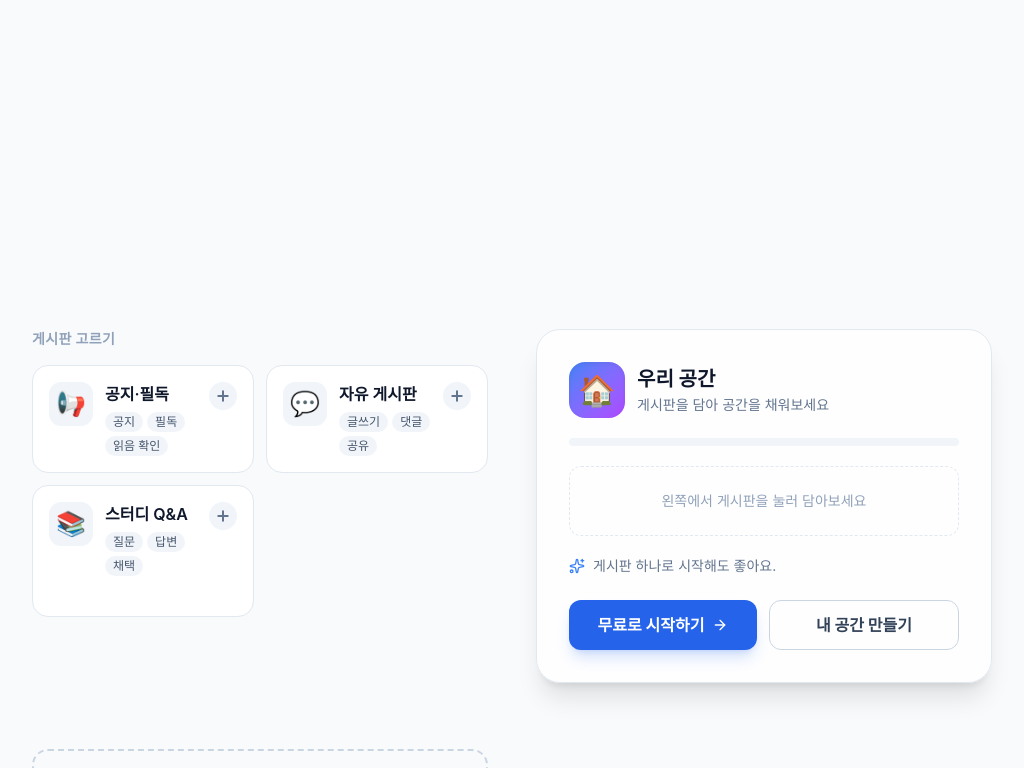
Scenario: Showcase — STORY-346-10 공간 완성 조립 › 타일을 담으면 공간 프레임이 채워지고 용도 수식어가 파생됨 (AC1·AC5)
The image size is (1024, 768).
Expected: the heading "우리 공간" is shown, [637,367,715,391]
Step 1. Click the button with aria-label "스터디 Q&A 게시판 담기" → x=143, y=551, box [32,485,254,617]
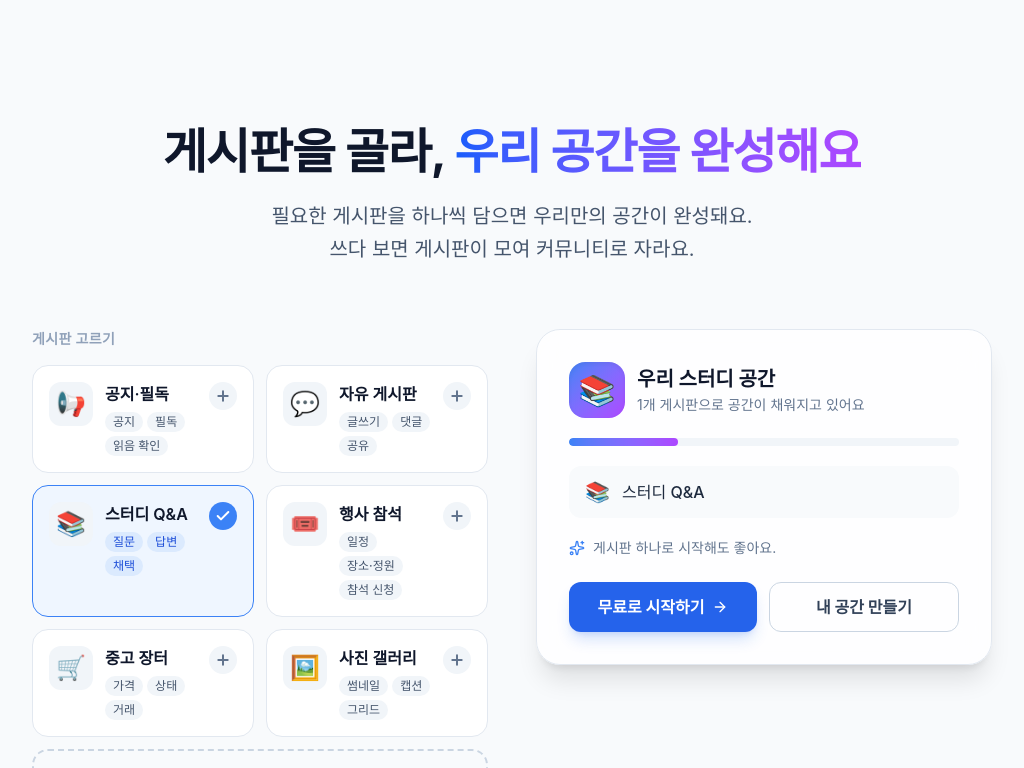
Result: the heading "우리 스터디 공간" is shown at [637,367,775,391]
Result: the text "1개 게시판으로 공간이 채워지고 있어요" is shown at [637,395,864,415]
Result: the text "스터디 Q&A" below "1개 게시판으로 공간이 채워지고 있어요" is shown at [622,482,704,502]
